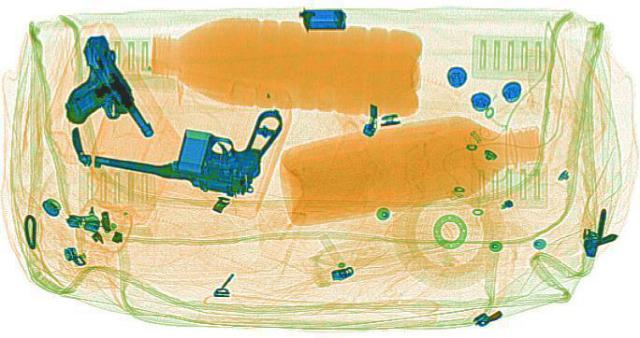Gun: (84, 88, 296, 196), (26, 33, 162, 144)
